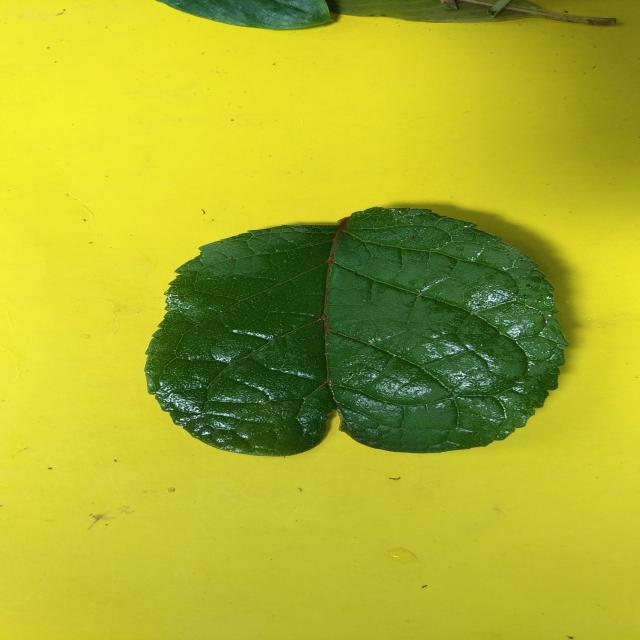padri: (147, 208, 567, 456)
